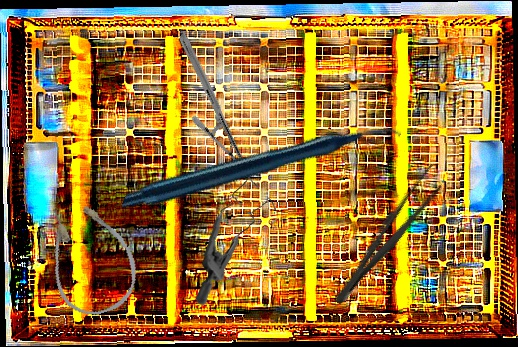Cannula: (33, 190, 148, 325)
Dressing Forceps: (326, 161, 451, 312)
Handpiece: (120, 45, 403, 294)
Needle Holder: (135, 32, 297, 180)
Speculum: (187, 175, 283, 306)
